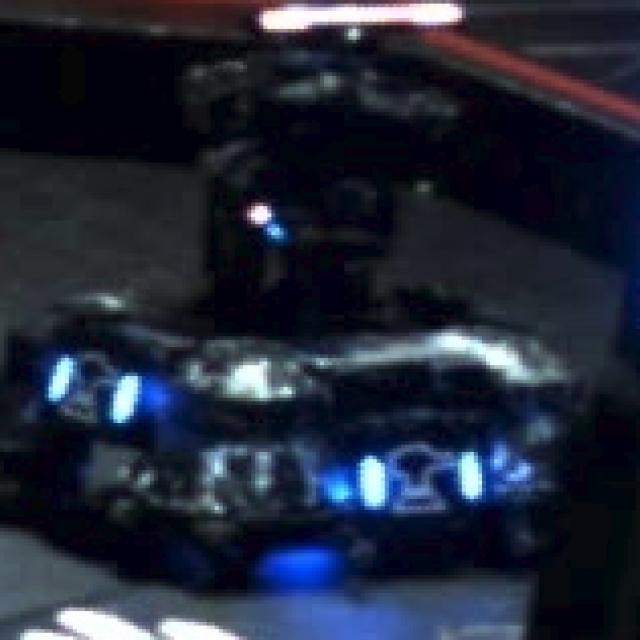Bs: (356, 445, 482, 506), (44, 354, 138, 427)
